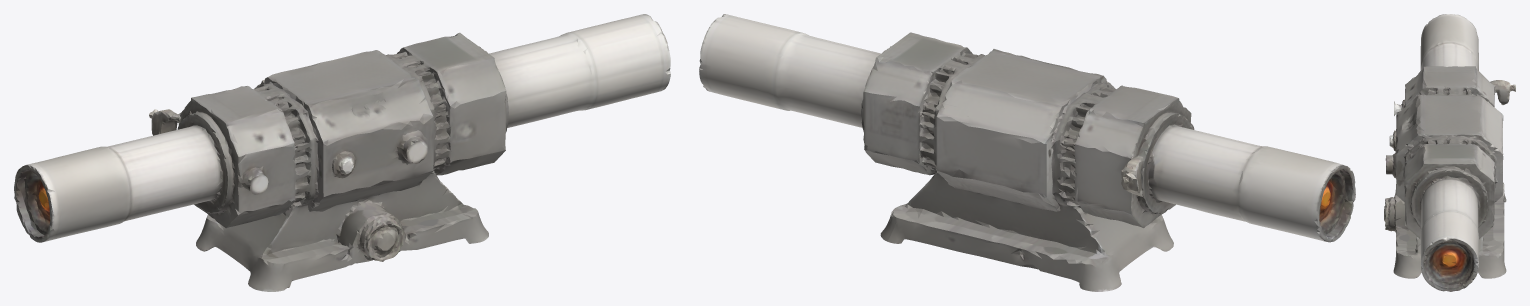
Rendered from falcon_weapon_primary.glb.
3 renders of one model, left to right at view 1: azimuth 30°, elevation 25°; view 2: azimuth 150°, elevation 25°; view 3: azimuth 270°, elevation 25°, orthographic. The views are drawn at different scales.
Parts seen in each view (by area): view 1: falcon_weapon_primary; view 2: falcon_weapon_primary; view 3: falcon_weapon_primary.
Part boxes in pixels (x1,y1,x2,y2): falcon_weapon_primary: (14, 14, 670, 291); falcon_weapon_primary: (699, 14, 1355, 291); falcon_weapon_primary: (1384, 14, 1515, 291).
Bounding box in the file's own units: 1.89 × 0.4746 × 0.4682.
Materials: 1 (1 with a texture image).
